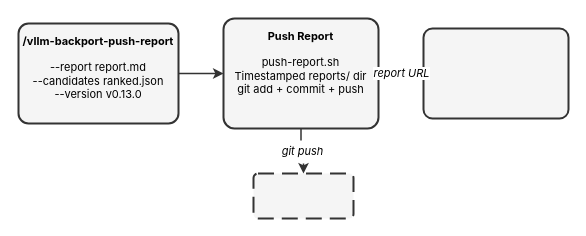
Image size: 586x236. Some labels were removed from this diagram. Here are the shapes that lost their labels. From the top down, the centre of each, then its label:
At [495,73]: "Output REPORT_URL to stdout GitHub pages URL".
At [303,195]: "GitHub".
